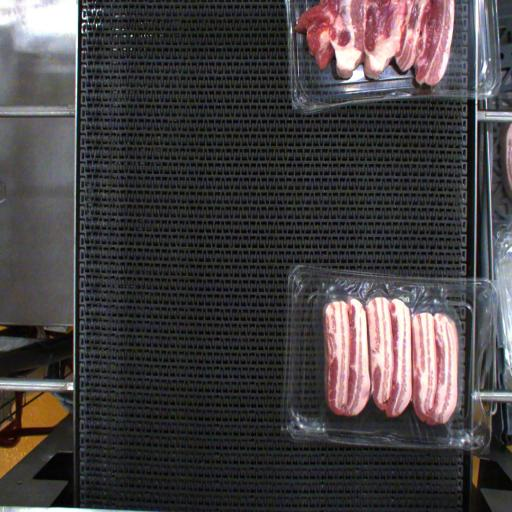unsealed: (305, 271, 465, 372)
